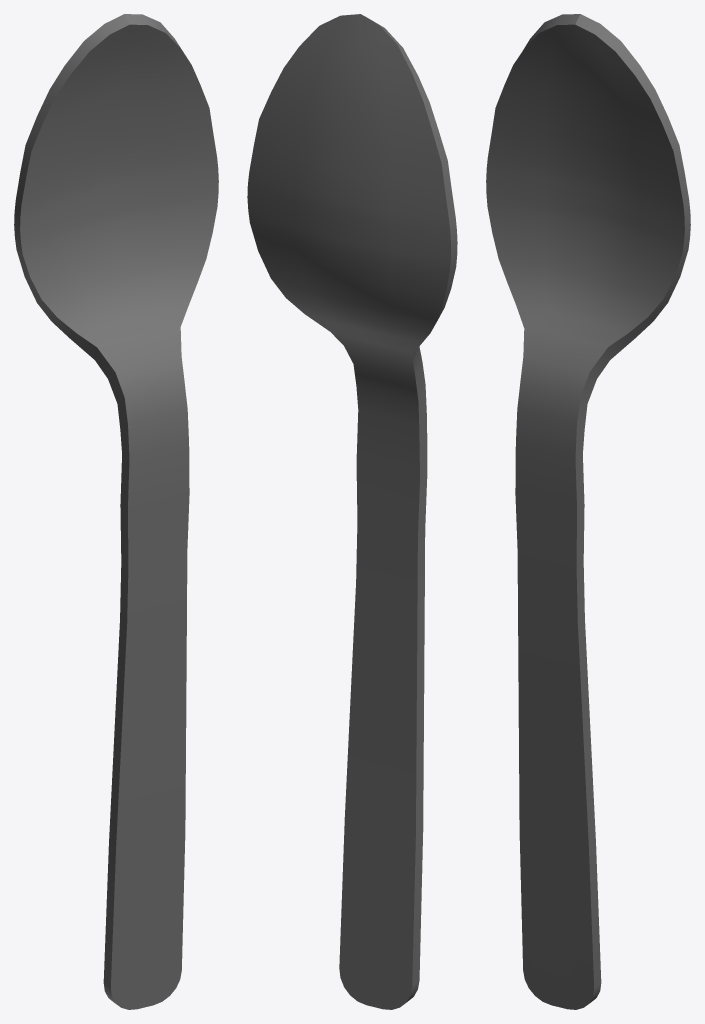
Rendered from spoon.gltf.
3 views of the same model, side by side, from view 1: azimuth 30°, elevation 25°; view 2: azimuth 150°, elevation 25°; view 3: azimuth 330°, elevation 25° (orthographic). The views are drawn at different scales.
Visible parts, largest first — view 1: Cube.453; view 2: Cube.453; view 3: Cube.453.
Boxes of the visible parts, x1=… form: Cube.453: x1=14, y1=14, x2=218, y2=1009; Cube.453: x1=247, y1=14, x2=457, y2=1009; Cube.453: x1=486, y1=14, x2=690, y2=1009.
Bounding box in the file's own units: 0.4793 × 2.25 × 0.2271.
Materials: 1 (1 with a texture image).
